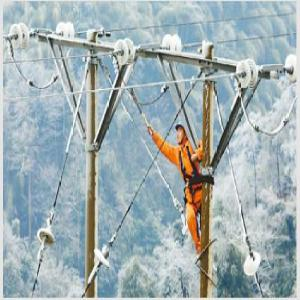blue: (175, 117, 189, 146)
